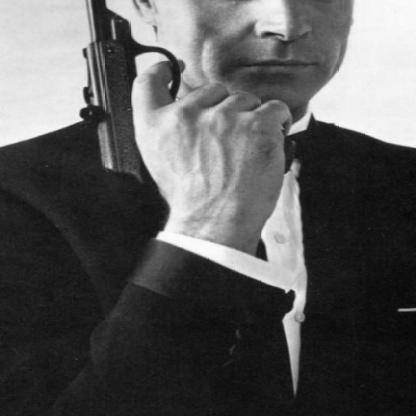gun: (44, 0, 294, 190)
